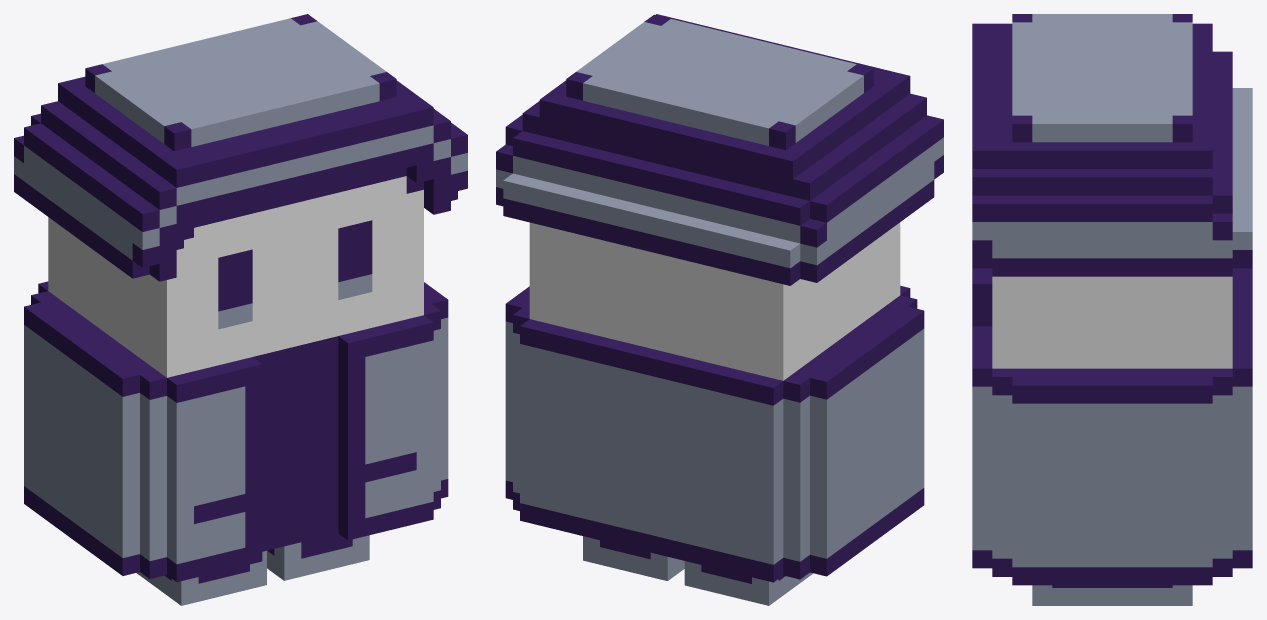
Rendered from p3_dizzy.gltf.
3 views of the same model, side by side, from view 1: azimuth 30°, elevation 25°; view 2: azimuth 150°, elevation 25°; view 3: azimuth 270°, elevation 25° (orthographic). The views are drawn at different scales.
Parts seen in each view (by area): view 1: Yup2Zup.001; view 2: Yup2Zup.001; view 3: Yup2Zup.001.
Boxes of the visible parts, x1,y1,x2,y2 form: Yup2Zup.001: [14, 14, 467, 605]; Yup2Zup.001: [496, 14, 943, 605]; Yup2Zup.001: [972, 14, 1252, 605].
Size of the model in its own units: 1.9 by 2.7 by 1.4.
Materials: 1 (1 with a texture image).
